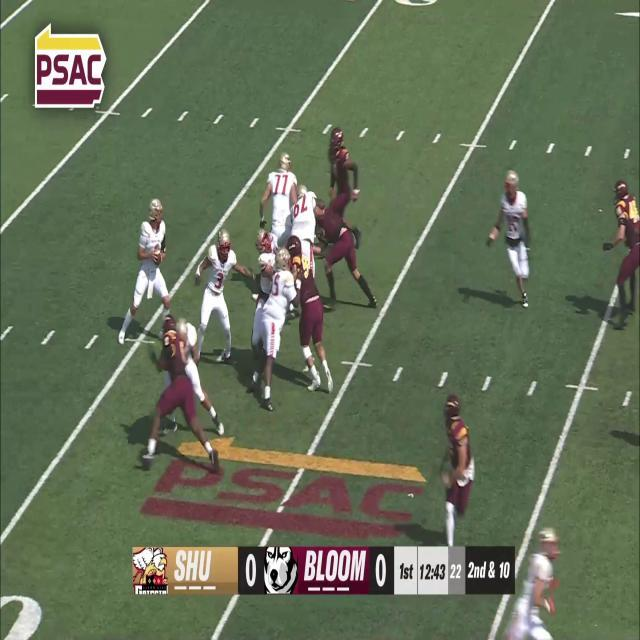football: (154, 248, 160, 266)
